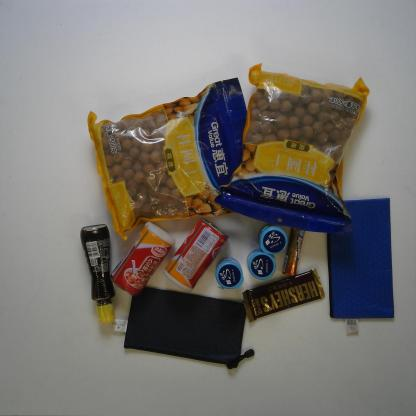Candy: (280, 224, 306, 277)
Canned Food: (161, 216, 231, 292), (107, 221, 177, 297)
Chocolate: (241, 266, 326, 324)
Dried Food: (85, 76, 249, 242), (214, 62, 370, 233)
Gum: (256, 222, 290, 256), (245, 247, 278, 281), (214, 256, 245, 290)
Seasoner: (79, 223, 117, 324)
Stationery: (110, 284, 256, 370), (326, 196, 395, 337)
